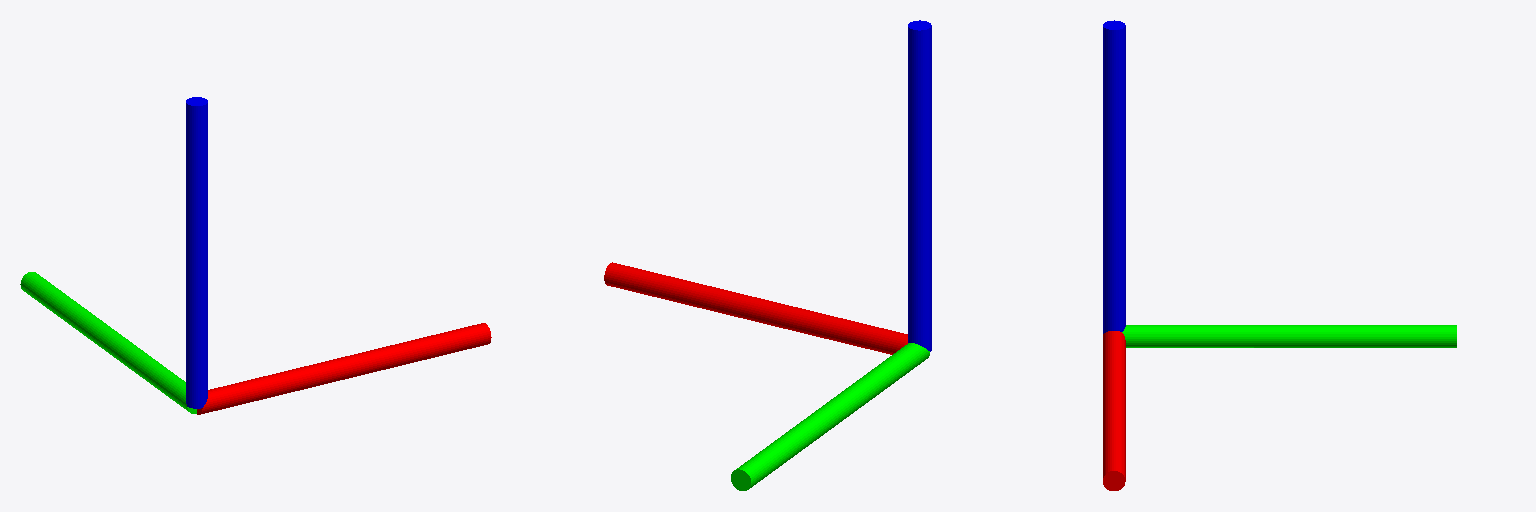
URDF robot description (goal):
<?xml version="1.0"?>
<robot name="goal">
  <link name="triad">
    <visual name="x_axis">
      <origin rpy="0 1.5707 0" xyz="0.15 0 0"/>
      <geometry>
        <cylinder radius="0.01" length="0.3"/>
      </geometry>
      <material name="red"/>
    </visual>
    <visual name="y_axis">
      <origin rpy="1.5707 0 0" xyz="0 0.15 0"/>
      <geometry>
        <cylinder radius="0.01" length="0.3"/>
      </geometry>
      <material name="green"/>
    </visual>
    <visual name="z_axis">
      <origin rpy="0 0 0" xyz="0 0 0.15"/>
      <geometry>
        <cylinder radius="0.01" length="0.3"/>
      </geometry>
      <material name="blue"/>
    </visual>
  </link>

  <!-- materials, only for visuals -->
  <material name="red">
    <color rgba="1.0 0.0 0.0 1.0"/>
  </material>
  <material name="green">
    <color rgba="0.0 1.0 0.0 1.0"/>
  </material>
  <material name="blue">
    <color rgba="0.0 0.0 1.0 1.0"/>
  </material>
</robot>

--- Render facts (derived) ---
3 views of the same robot in one strip: view 1: azimuth 30°, elevation 25°; view 2: azimuth 150°, elevation 25°; view 3: azimuth 270°, elevation 25° (orthographic).
Model goal with 1 links and 0 joints (none), rooted at triad, posed all joints at 0.
Links seen in each view (by area): view 1: triad; view 2: triad; view 3: triad.
Link boxes in pixels (x1=…): triad: x1=20, y1=97, x2=491, y2=414; triad: x1=604, y1=20, x2=931, y2=490; triad: x1=1103, y1=20, x2=1456, y2=490.
Bounding box of the posed robot: 0.31 × 0.31 × 0.31 m (x, y, z).
Geometry: primitives only (box / cylinder / sphere), no mesh files.
